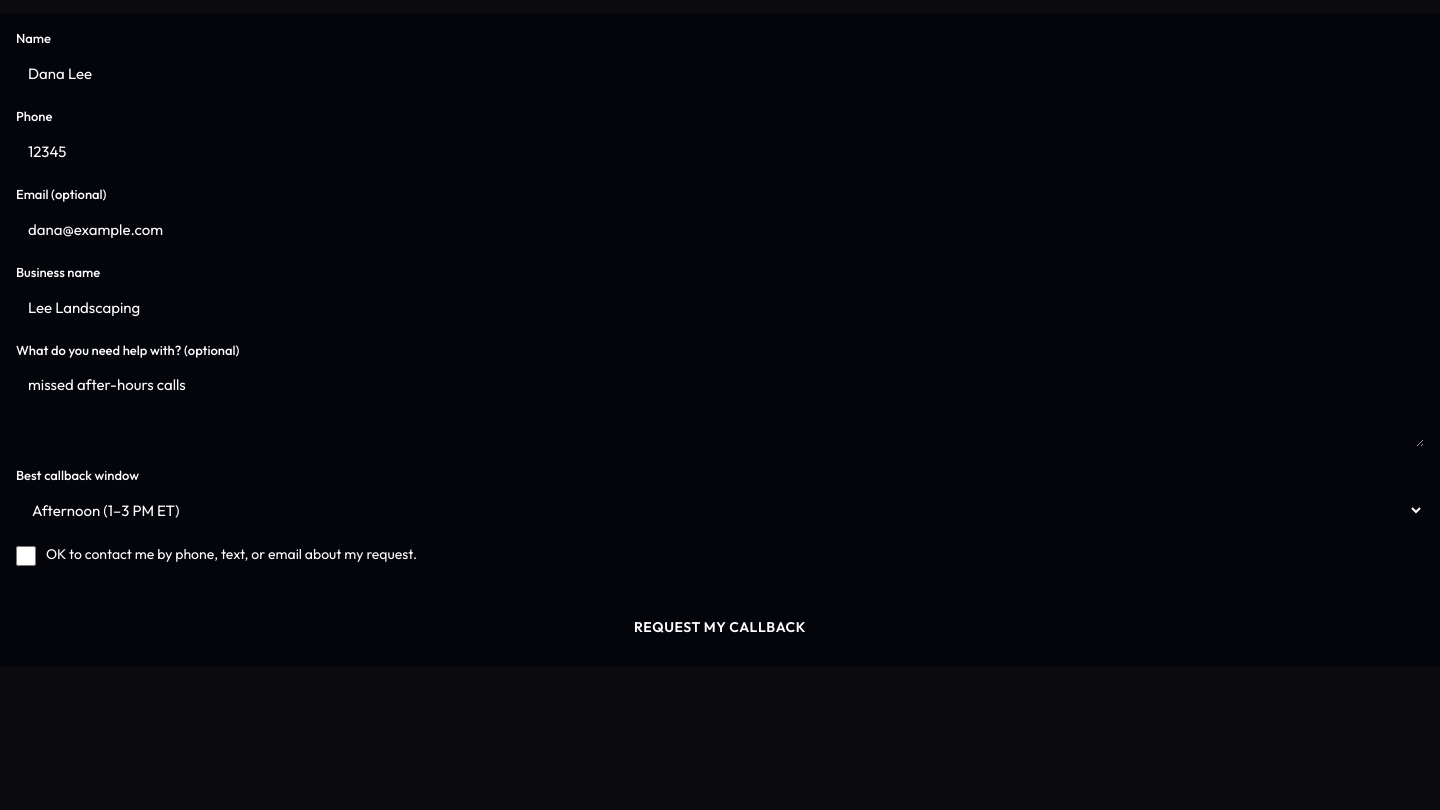
Test: LeadForm › pre-filled from the conversation (plan v1.1) › still validates a pre-filled value that is wrong
Click the checkbox labelled "OK to contact me by phone, text, or email about my request.". click: {"x": 26, "y": 556}
box: [16,546,36,566]
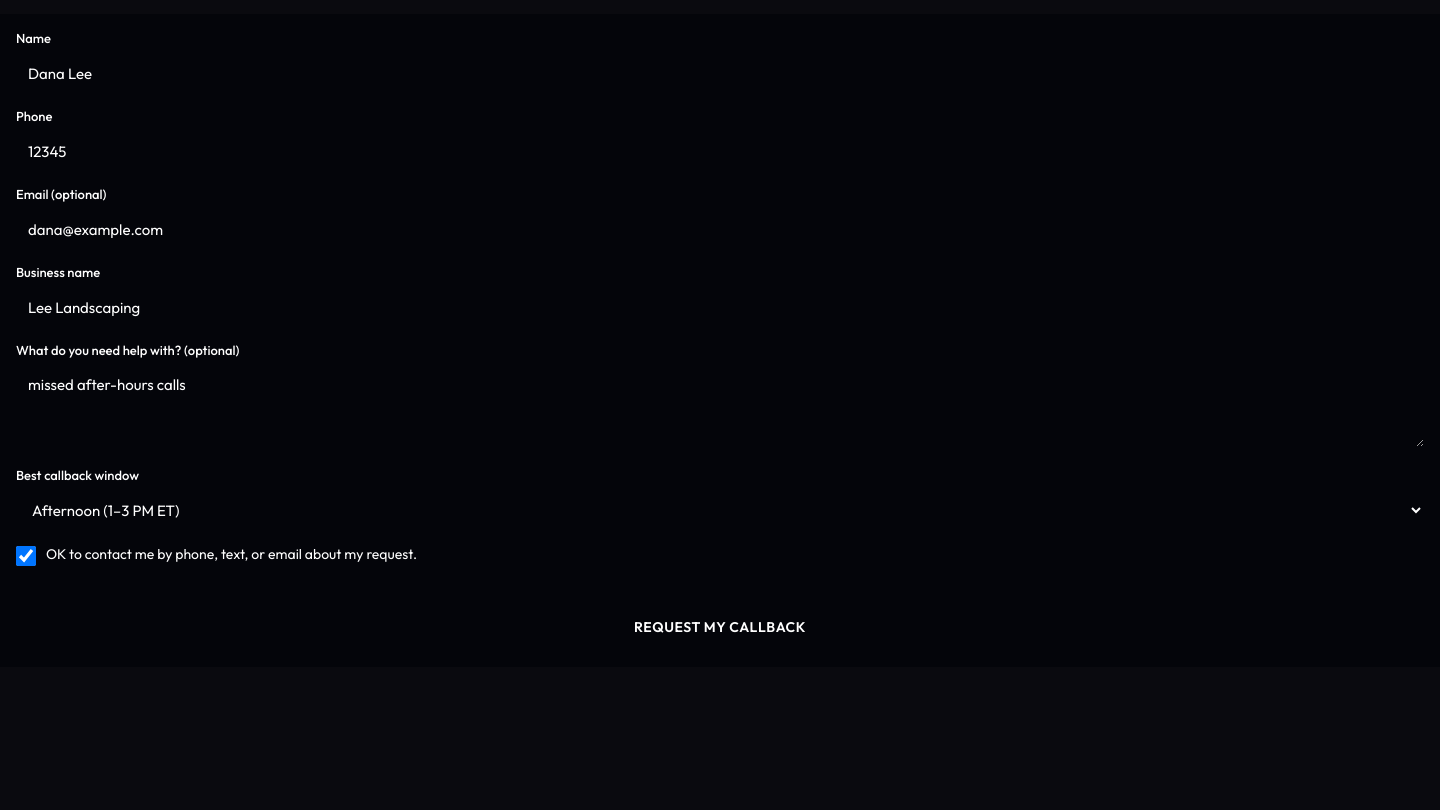
Click the button "Request my callback". click: {"x": 720, "y": 627}
box: [16,603,1424,651]
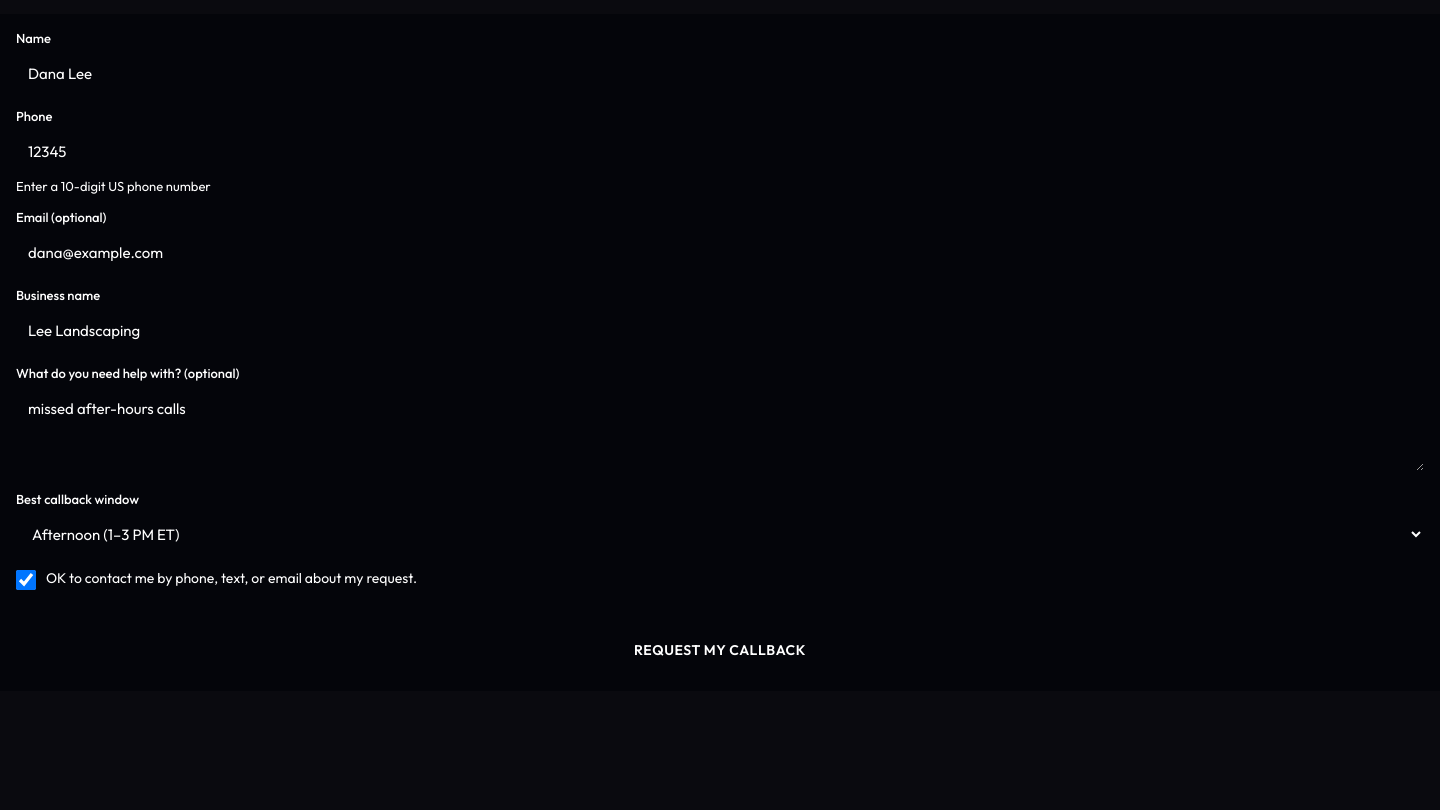
Expected: the text "Enter a 10-digit US phone number" is shown, [16,178,211,194]
